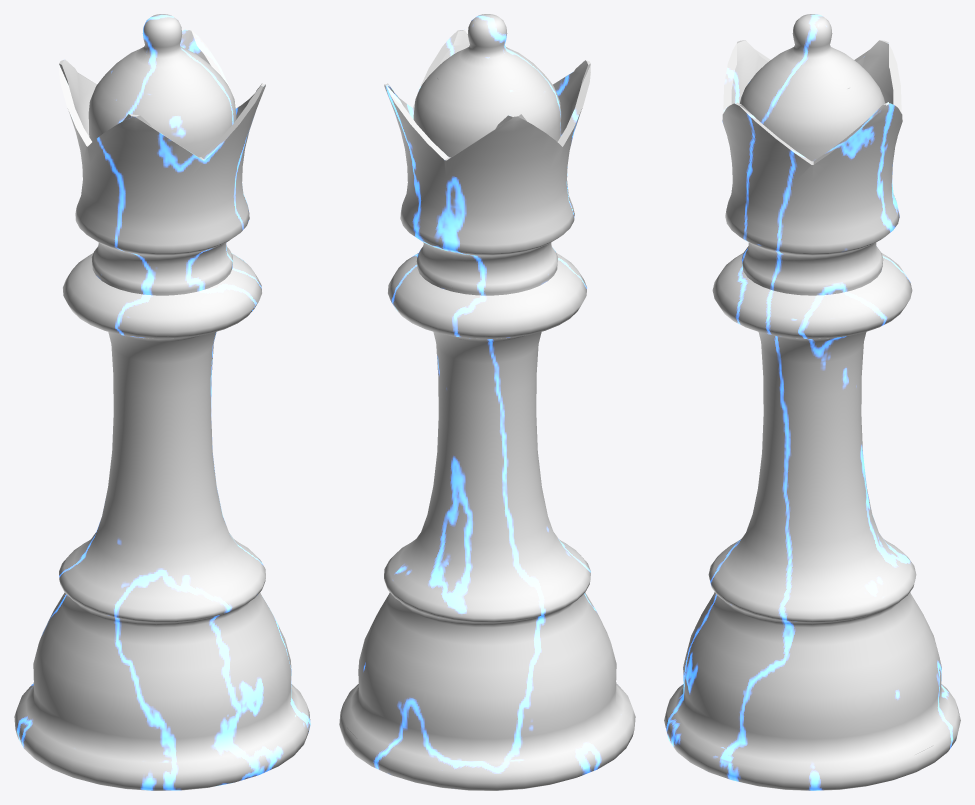
The model's file is WhiteQueen.glb.
3 renders of one model, left to right at view 1: azimuth 30°, elevation 25°; view 2: azimuth 150°, elevation 25°; view 3: azimuth 270°, elevation 25°, orthographic.
Parts seen in each view (by area): view 1: Queen.001; view 2: Queen.001; view 3: Queen.001.
Part boxes in pixels (x1=…): Queen.001: x1=14, y1=14, x2=310, y2=790; Queen.001: x1=339, y1=14, x2=635, y2=790; Queen.001: x1=664, y1=14, x2=960, y2=790.
Bounding box in the file's own units: 0.2046 × 0.5443 × 0.2046.
1 material, 1 textured.
